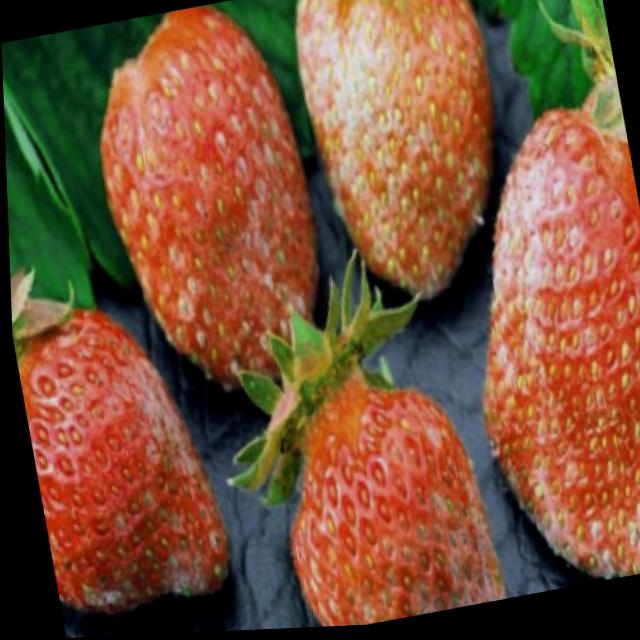Powdery Mildew Fruit: (102, 7, 316, 385), (477, 109, 640, 583), (11, 303, 226, 615), (282, 358, 507, 630), (295, 0, 492, 303)
